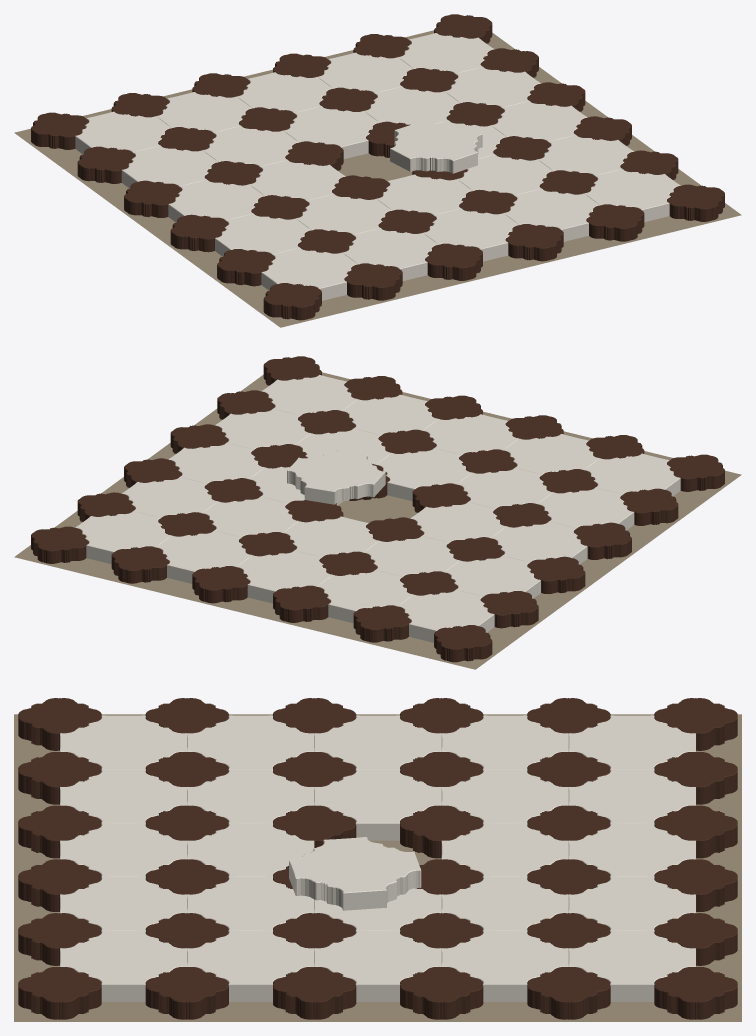
File: terilgan.glb
The picture shows the model from 3 angles, top to bottom: view 1: azimuth 30°, elevation 25°; view 2: azimuth 150°, elevation 25°; view 3: azimuth 270°, elevation 25°; orthographic projection. The views are drawn at different scales.
Parts seen in each view (by area): view 1: qum, t.033, t.007, t.029, t.035, t.040, t.018, t.051, t.013, t.011, t.015, t.009 (+49 smaller); view 2: qum, t.033, t.015, t.037, t.031, t.048, t.026, t.059, t.009, t.011, t.007, t.013 (+49 smaller); view 3: qum, t.033, t.057, t.051, t.059, t.055, t.053, t.022, t.011, t.013, t.009, t.007 (+49 smaller).
Part boxes in pixels (x1=…): qum: x1=14, y1=30, x2=741, y2=327; t.033: x1=390, y1=122, x2=482, y2=173; t.007: x1=261, y1=248, x2=357, y2=300; t.029: x1=423, y1=208, x2=518, y2=261; t.035: x1=283, y1=106, x2=379, y2=158; t.040: x1=504, y1=189, x2=599, y2=241; t.018: x1=342, y1=228, x2=438, y2=280; t.051: x1=584, y1=169, x2=680, y2=222; t.013: x1=121, y1=145, x2=217, y2=188; t.011: x1=168, y1=179, x2=264, y2=222; t.015: x1=75, y1=111, x2=171, y2=154; t.009: x1=215, y1=213, x2=311, y2=256; qum: x1=14, y1=372, x2=741, y2=669; t.033: x1=287, y1=450, x2=385, y2=504; t.015: x1=398, y1=590, x2=494, y2=642; t.037: x1=237, y1=550, x2=332, y2=603; t.031: x1=376, y1=448, x2=472, y2=501; t.048: x1=156, y1=531, x2=251, y2=583; t.026: x1=317, y1=570, x2=413, y2=623; t.059: x1=75, y1=511, x2=171, y2=564; t.009: x1=538, y1=487, x2=634, y2=530; t.011: x1=491, y1=521, x2=587, y2=564; t.007: x1=584, y1=453, x2=680, y2=496; t.013: x1=444, y1=555, x2=540, y2=598; qum: x1=14, y1=714, x2=741, y2=1021; t.033: x1=289, y1=837, x2=421, y2=910; t.057: x1=441, y1=930, x2=568, y2=1001; t.051: x1=60, y1=930, x2=187, y2=1001; t.059: x1=568, y1=930, x2=695, y2=1001; t.055: x1=314, y1=930, x2=441, y2=1001; t.053: x1=187, y1=930, x2=314, y2=1001; t.022: x1=314, y1=769, x2=441, y2=840; t.011: x1=314, y1=715, x2=441, y2=769; t.013: x1=441, y1=715, x2=568, y2=769; t.009: x1=187, y1=715, x2=314, y2=769; t.007: x1=60, y1=715, x2=187, y2=769.
Bounding box in the file's own units: 1.66 × 0.092 × 1.66.
